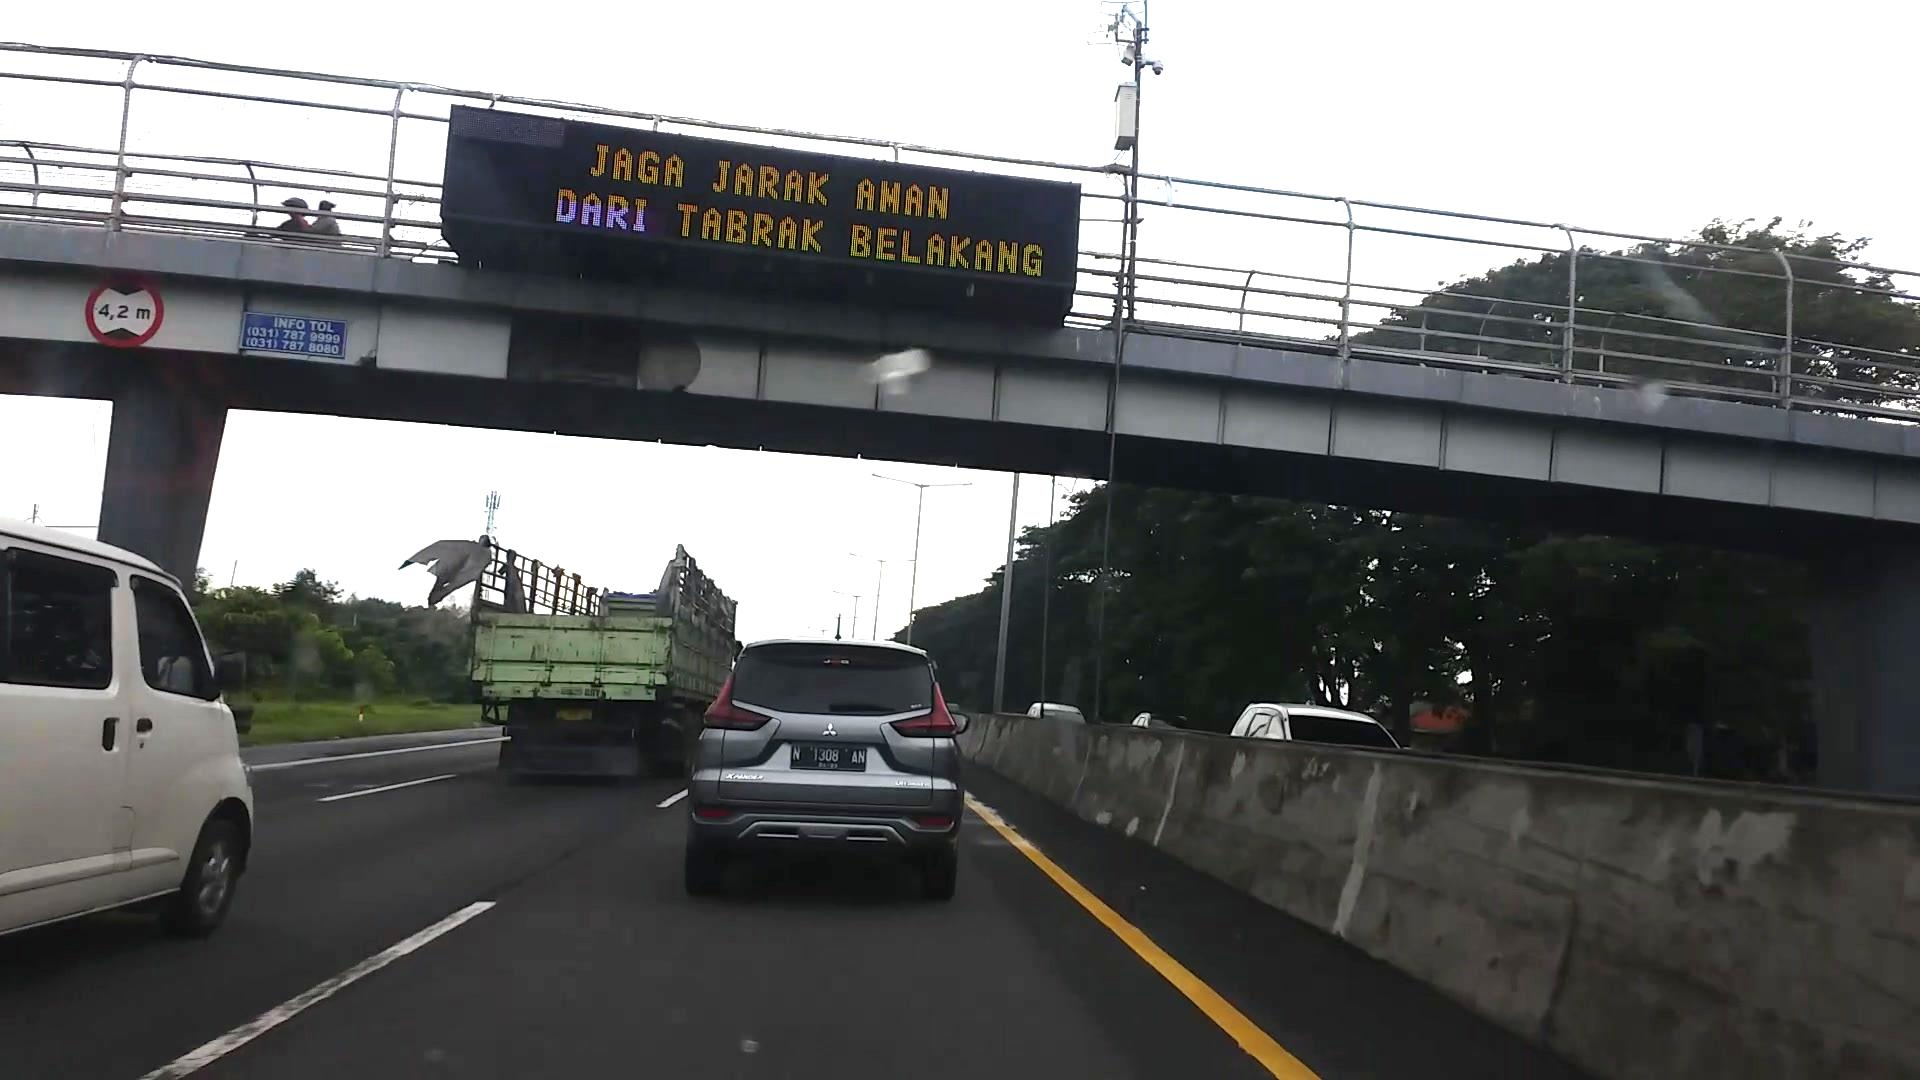plate_positive: (790, 742, 866, 773)
